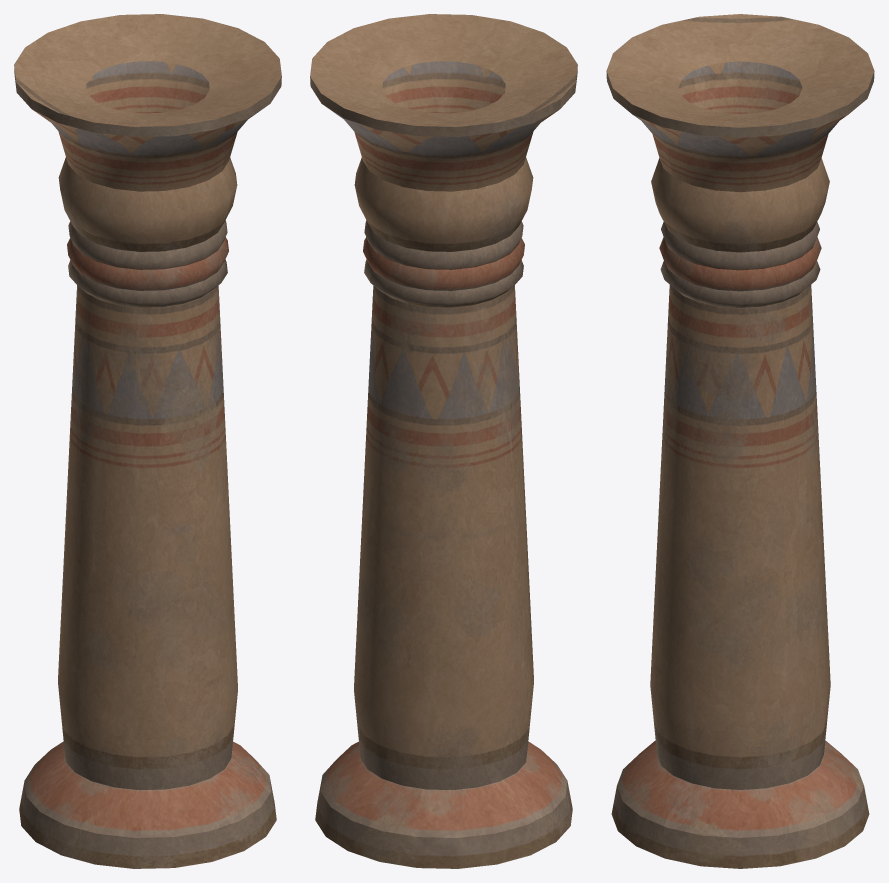
File: egyptian_pillar_v1.glb
3 renders of one model, left to right at view 1: azimuth 30°, elevation 25°; view 2: azimuth 150°, elevation 25°; view 3: azimuth 270°, elevation 25°, orthographic.
Parts seen in each view (by area): view 1: pCylinder1; view 2: pCylinder1; view 3: pCylinder1.
Boxes of the visible parts, x1,y1,x2,y2 form: pCylinder1: [14, 14, 281, 868]; pCylinder1: [310, 14, 577, 868]; pCylinder1: [606, 14, 874, 868].
Size of the model in its own units: 2.02 by 6.14 by 2.01.
Materials: 1 (1 with a texture image).
